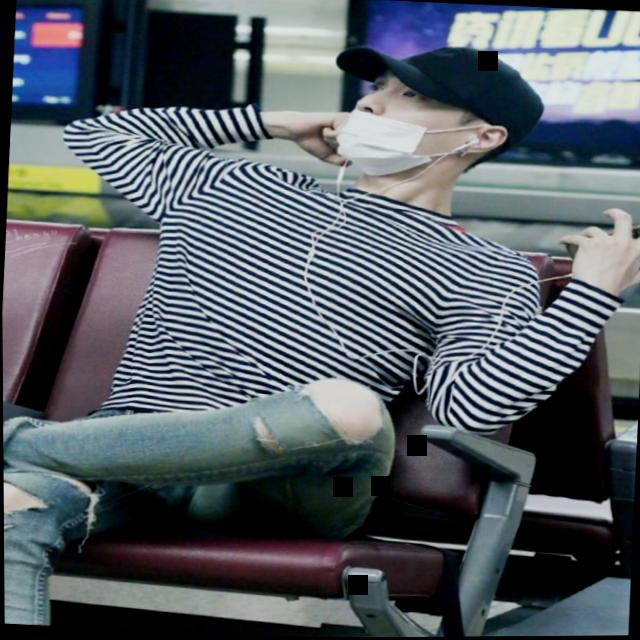Mask: (315, 27, 553, 203)
